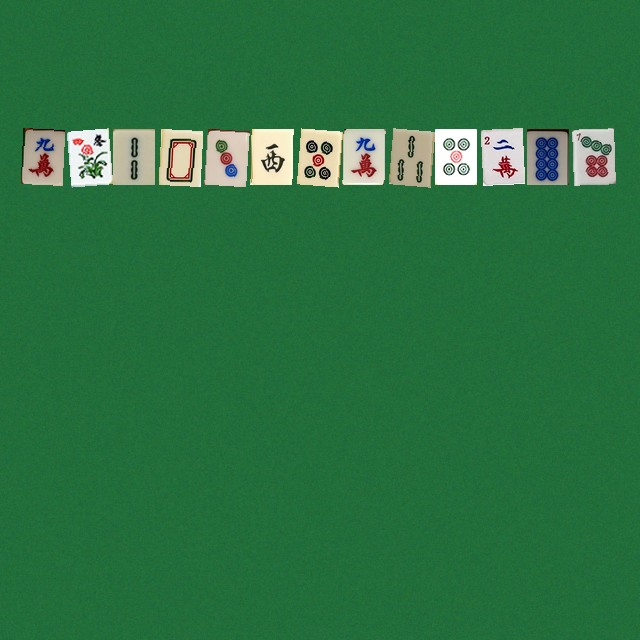tile: (20, 128, 62, 184), (66, 128, 108, 184), (112, 128, 154, 184), (158, 128, 200, 184), (204, 128, 246, 184), (250, 128, 292, 184), (296, 128, 338, 184), (342, 128, 384, 184), (388, 128, 430, 184), (434, 128, 476, 184), (480, 128, 522, 184), (526, 128, 568, 184), (572, 128, 614, 184)
